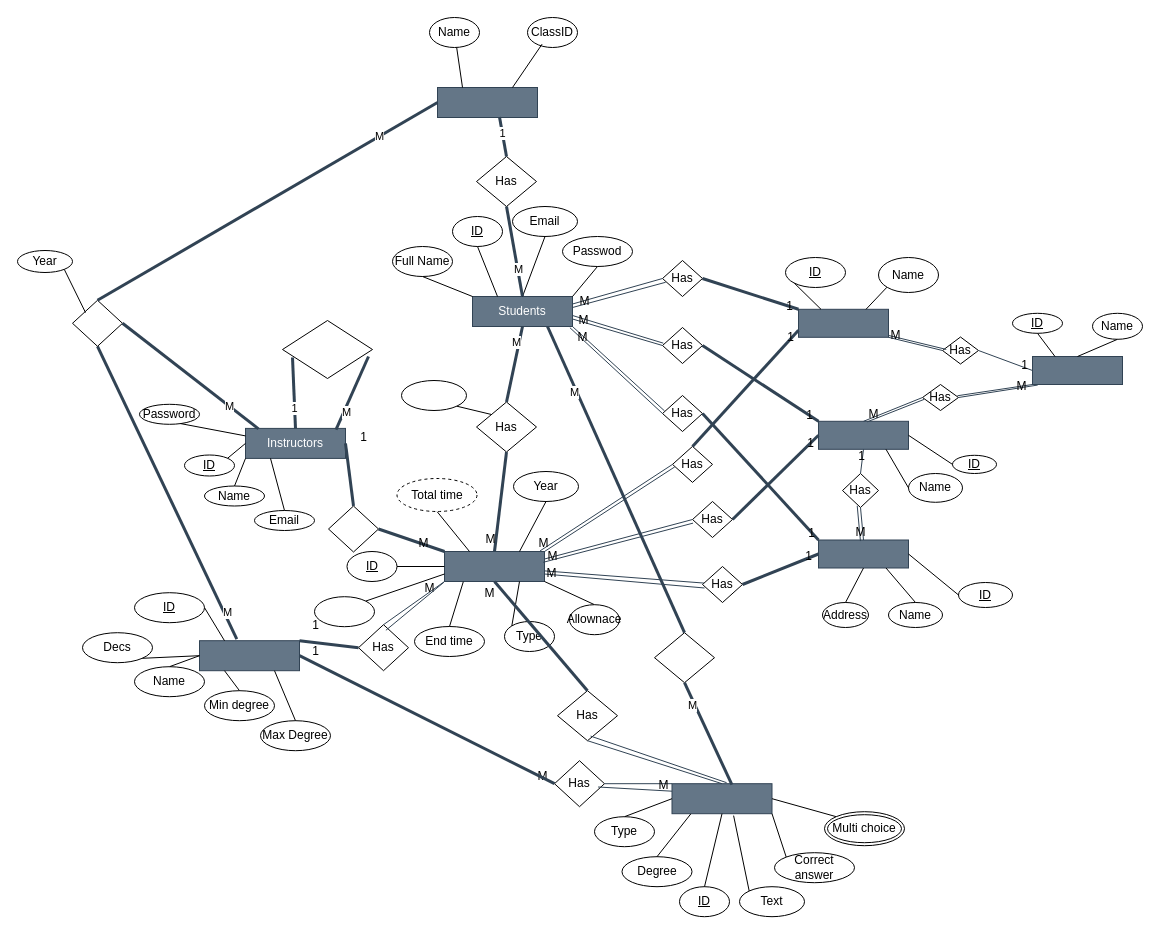
The diagram is 1160 pixels wide and 935 high, and some of its shapes have lost their labels. Each missing label, with the box of its shape:
answer: (654, 632, 714, 683)
Branches: (818, 539, 908, 568)
class: (436, 86, 538, 118)
Courses: (198, 640, 300, 671)
Department: (1032, 356, 1122, 384)
Exam: (444, 550, 544, 582)
Intake: (818, 420, 908, 449)
Make: (328, 505, 378, 552)
Questions: (671, 783, 772, 814)
Results: (400, 380, 466, 410)
Start time: (314, 596, 374, 627)
teach: (72, 299, 122, 346)
Tracks: (798, 308, 888, 337)
Training Manager: (282, 320, 372, 378)
